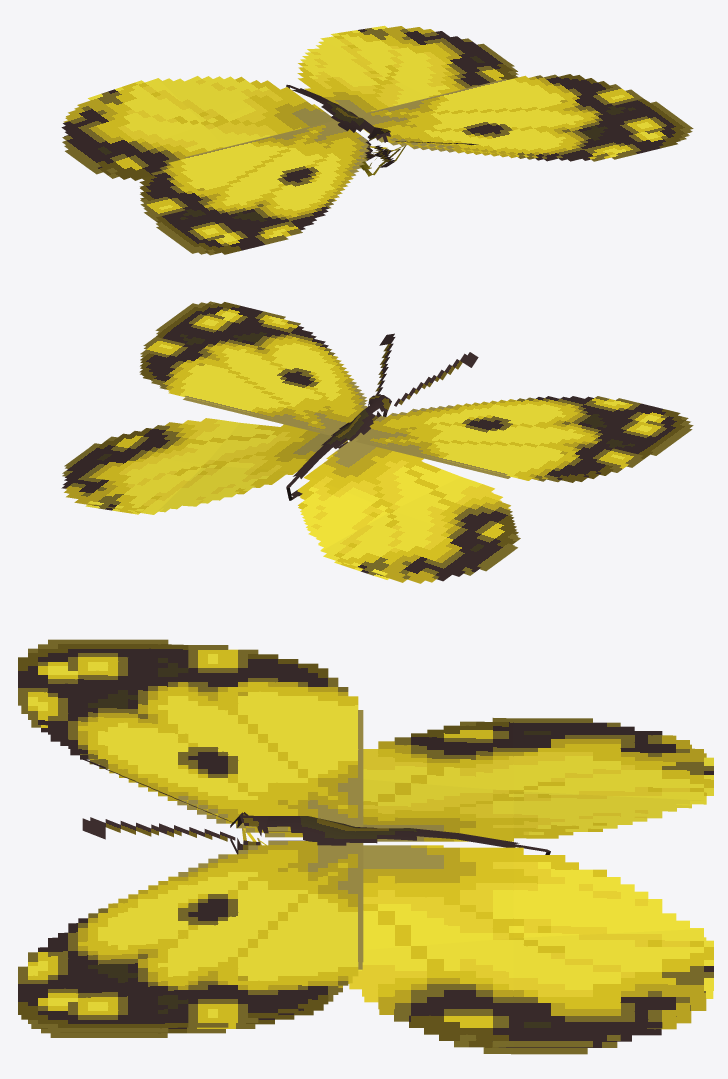
File: m_ins_monki.obj
3 views of the same model, one above another, from view 1: azimuth 30°, elevation 25°; view 2: azimuth 150°, elevation 25°; view 3: azimuth 270°, elevation 25° (orthographic). The views are drawn at different scales.
Visible parts, largest first — view 1: polygon0; view 2: polygon0; view 3: polygon0.
Boxes of the visible parts, x1,y1,x2,y2 form: polygon0: [61, 25, 693, 255]; polygon0: [61, 301, 693, 583]; polygon0: [18, 639, 713, 1054].
Bounding box in the file's own units: 8.34 × 1.44 × 6.05.
1 material, 1 textured.
